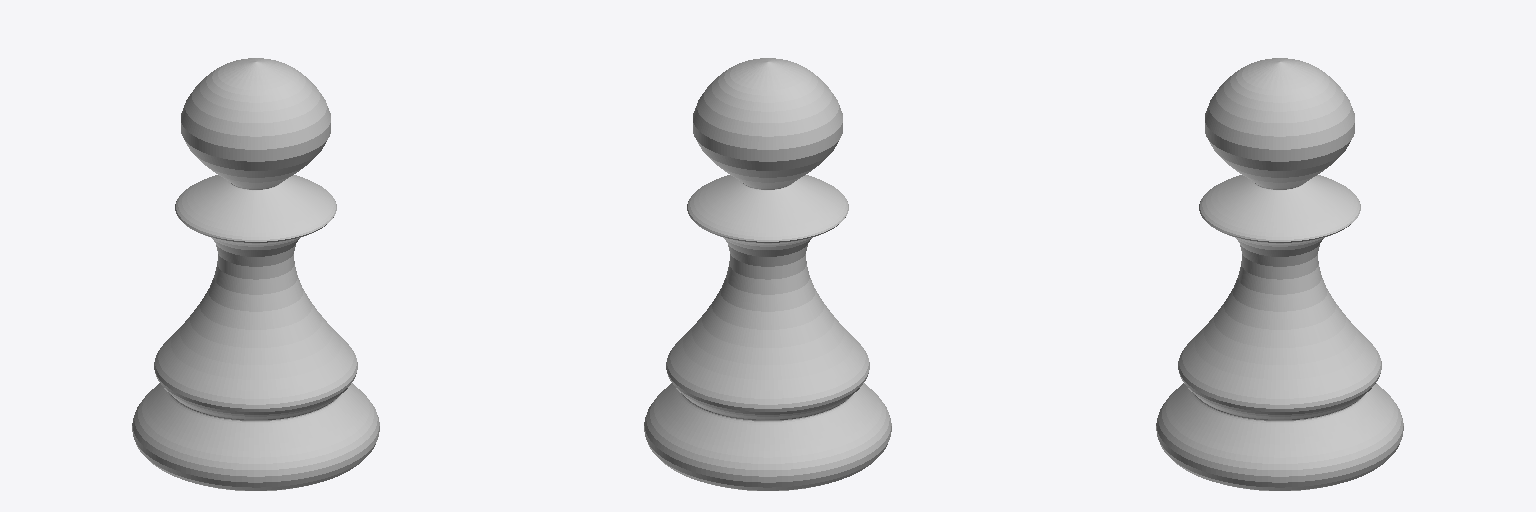
The model's file is pedone.obj.
3 views of the same model, side by side, from view 1: azimuth 30°, elevation 25°; view 2: azimuth 150°, elevation 25°; view 3: azimuth 270°, elevation 25° (orthographic).
Visible parts, largest first — view 1: Cylinder.014; view 2: Cylinder.014; view 3: Cylinder.014.
Boxes of the visible parts, <box> form: Cylinder.014: <box>132,58,379,490</box>; Cylinder.014: <box>644,58,891,490</box>; Cylinder.014: <box>1156,58,1403,490</box>.
Size of the model in its own units: 1.28 by 2.23 by 1.28.